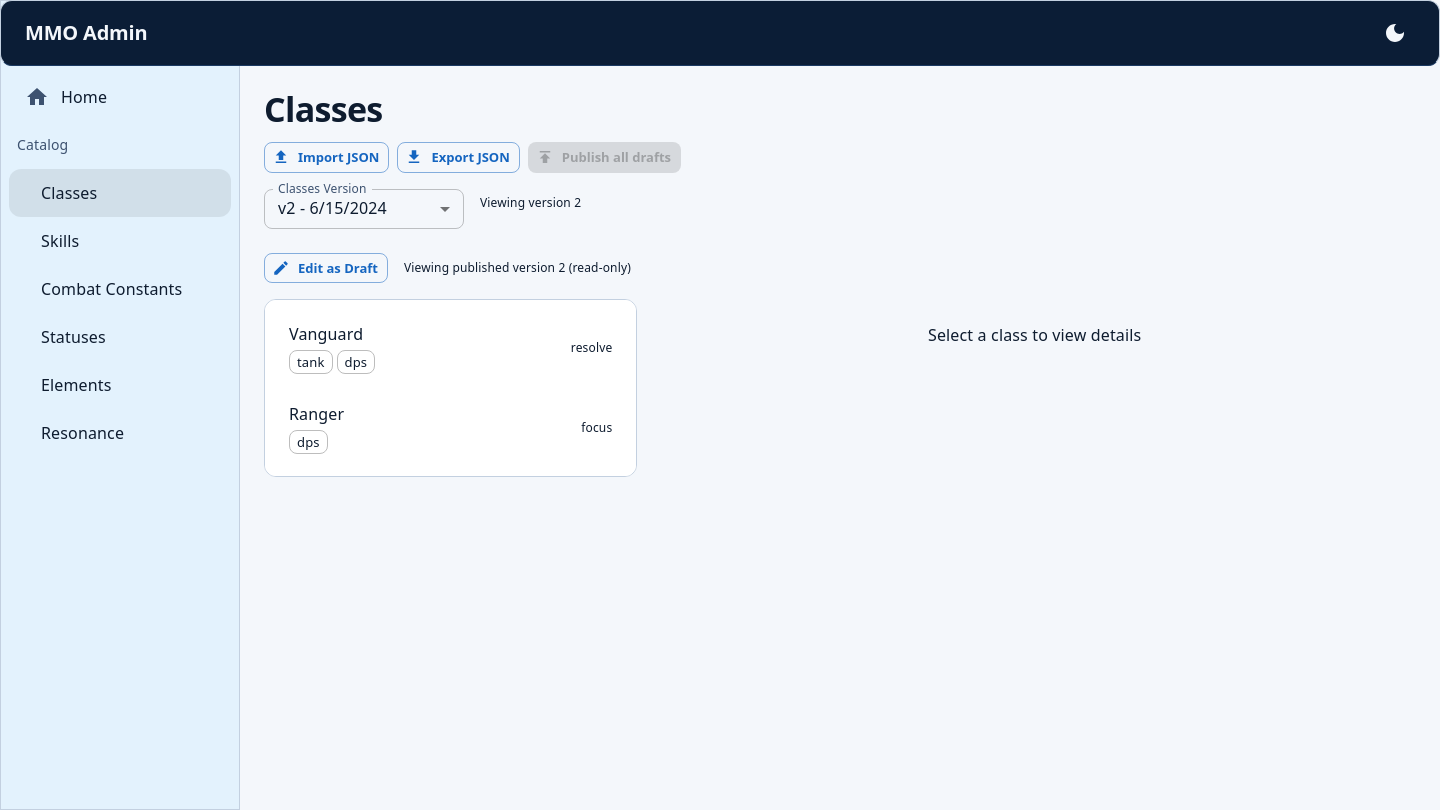
Test: Catalog pages default to the latest published version › keeps an older version when the user selects it
Expected: the text "Vanguard" is shown, 289,323 -> 363,345
Click the dropdown.
click(332, 208)  # box 278,197 -> 387,219
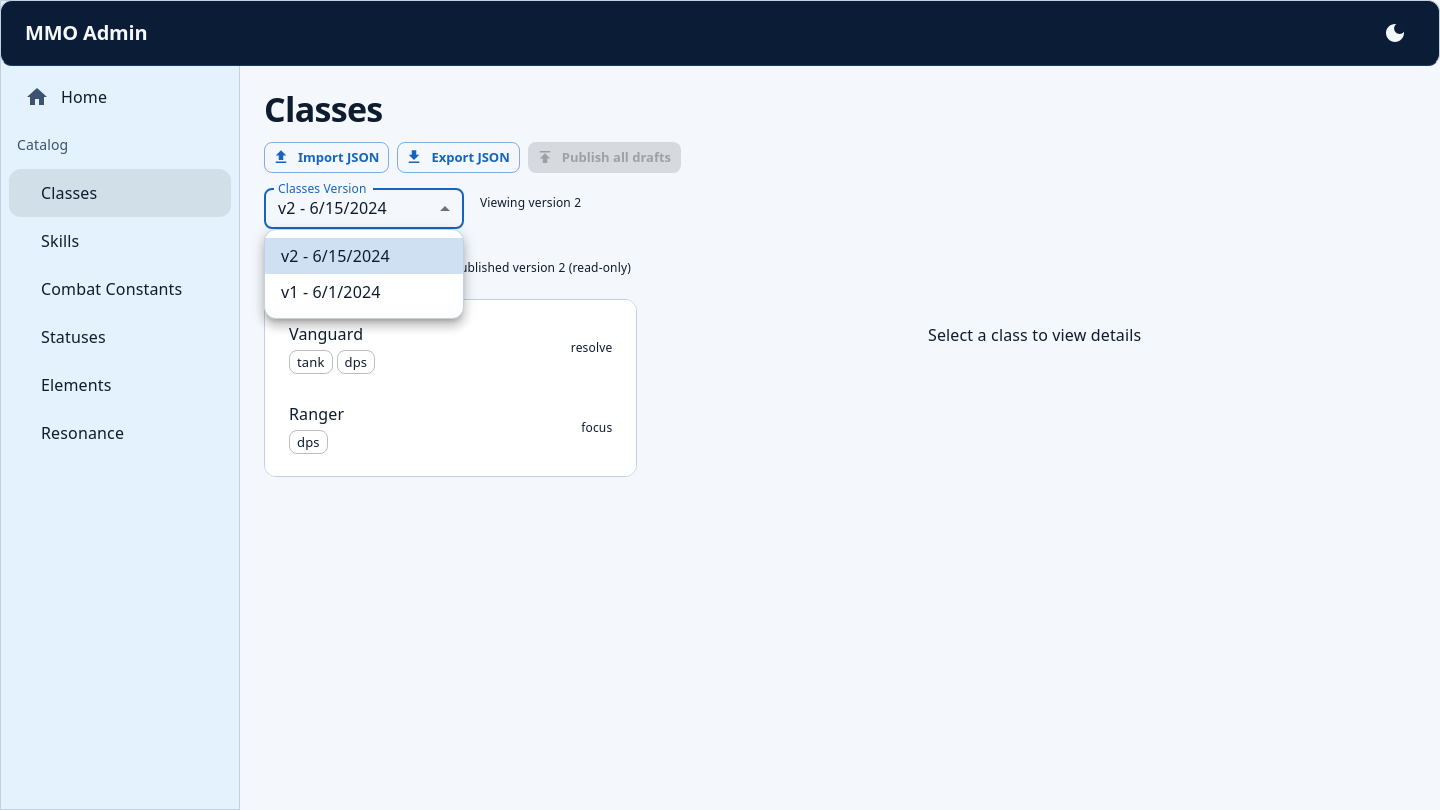
Click the option "v1 - 6/1/2024".
click(331, 292)  # box 281,281 -> 381,303
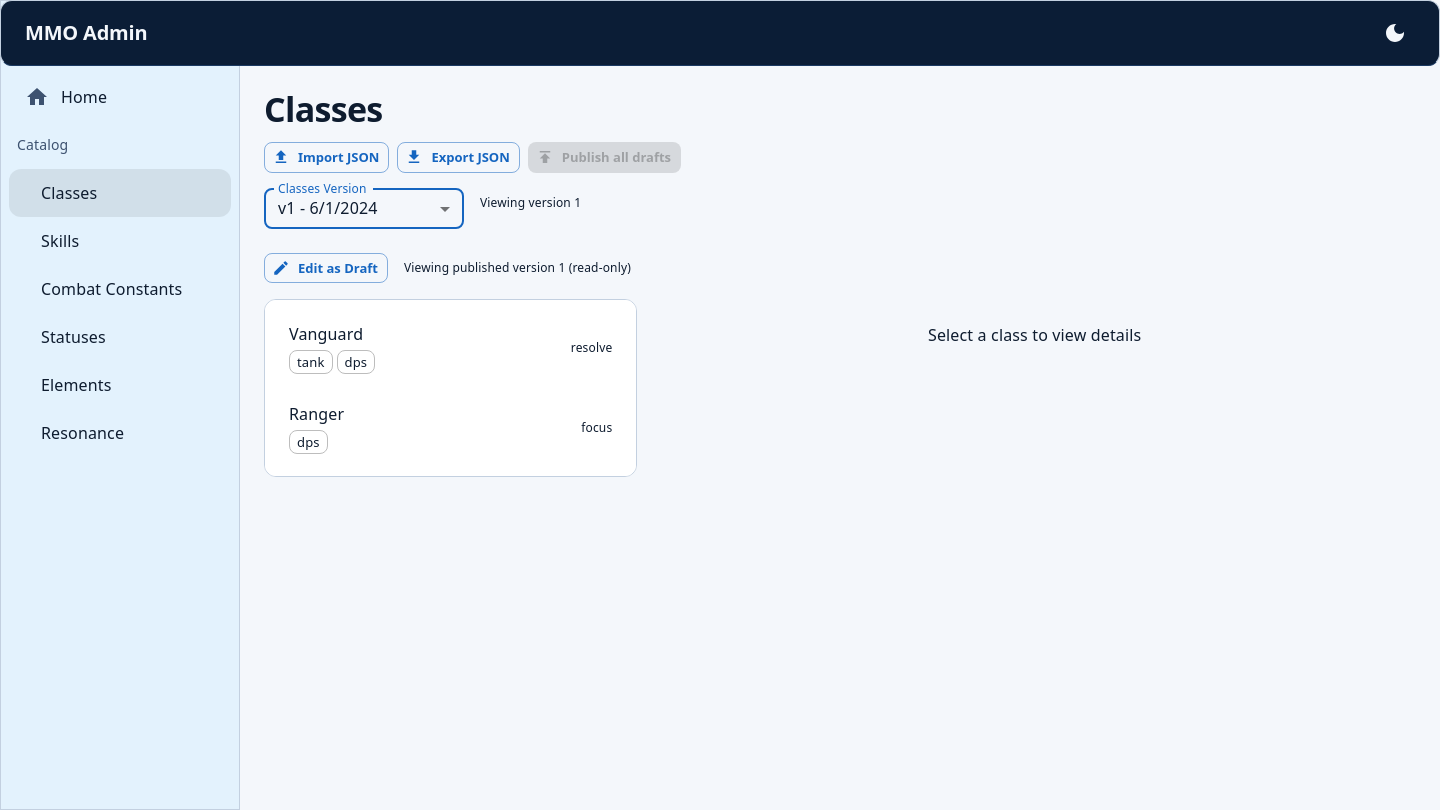
Expected: the text "Vanguard" is shown, 289,323 -> 363,345
Result: the dropdown shows "v1" at 278,197 -> 378,219
Result: the text "Viewing version 1" is shown at 480,194 -> 581,211
